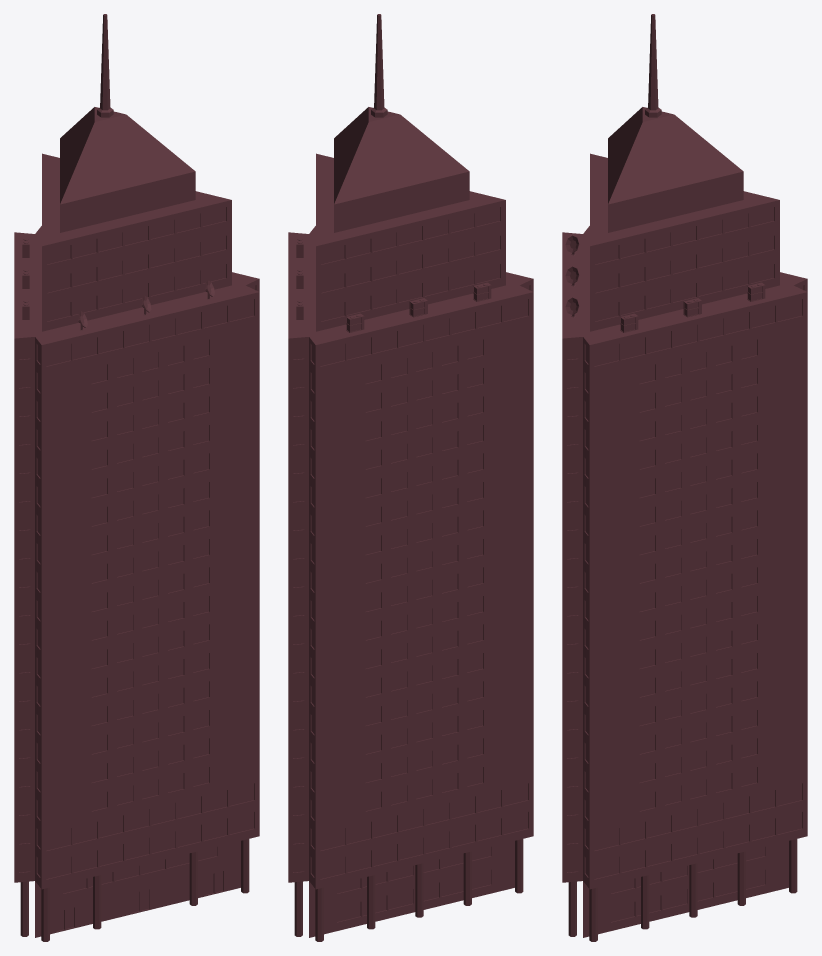
The model's file is building-skyscraper.fbx.
3 renders of one model, left to right at view 1: azimuth 30°, elevation 25°; view 2: azimuth 150°, elevation 25°; view 3: azimuth 270°, elevation 25°, orthographic.
Parts seen in each view (by area): view 1: building-skyscraper; view 2: building-skyscraper; view 3: building-skyscraper.
Part boxes in pixels (bbox=[...]): building-skyscraper: bbox=[14, 14, 259, 941]; building-skyscraper: bbox=[288, 14, 533, 941]; building-skyscraper: bbox=[562, 14, 807, 941].
Size of the model in its own units: 27 by 91.8 by 23.38.
